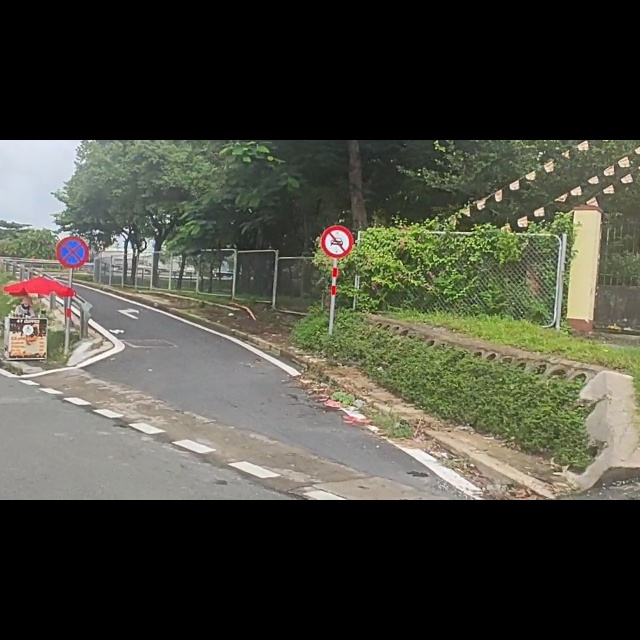bien_cam: (56, 172, 90, 230), (322, 151, 353, 212)
